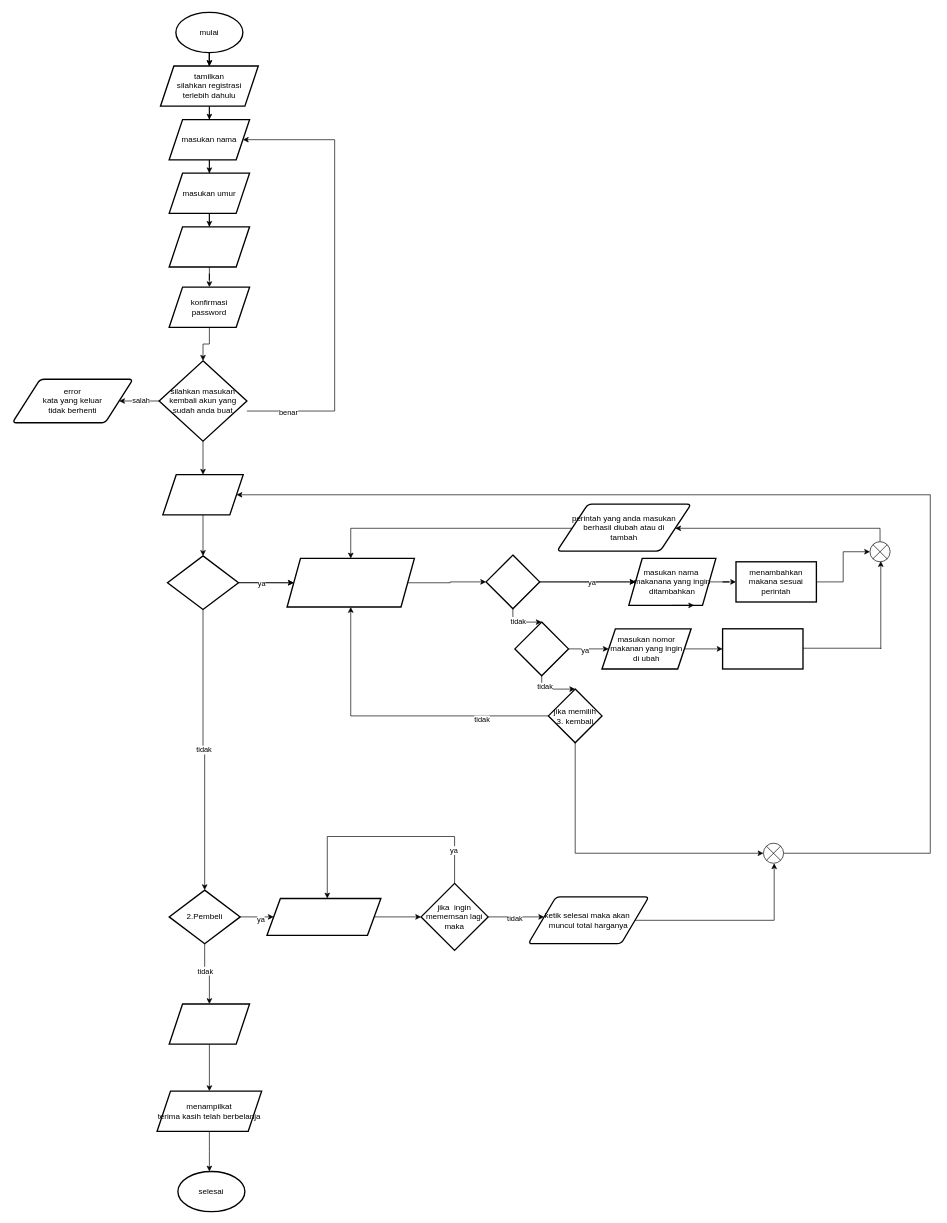
The diagram is 947 pixels wide and 1223 high, and some of its shapes have lost their labels. Each missing label, with the centre of its shape:
1.admind: point (202, 582)
3. keluar: point (209, 1024)
ada 3 plihan opsi: point (203, 494)
jika memilih 1,tambah: point (512, 581)
jika memilih 2. mengubah: point (541, 648)
masukan nama makanan baru atau harga baru: point (762, 648)
masukan nomor makanan: point (323, 916)
masukan passwword: point (209, 246)
masukan tindakan dari 3 opsi yaitu ubah,tambah dan kembali: point (350, 582)
